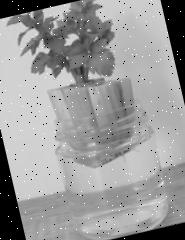glass: (46, 96, 176, 240)
